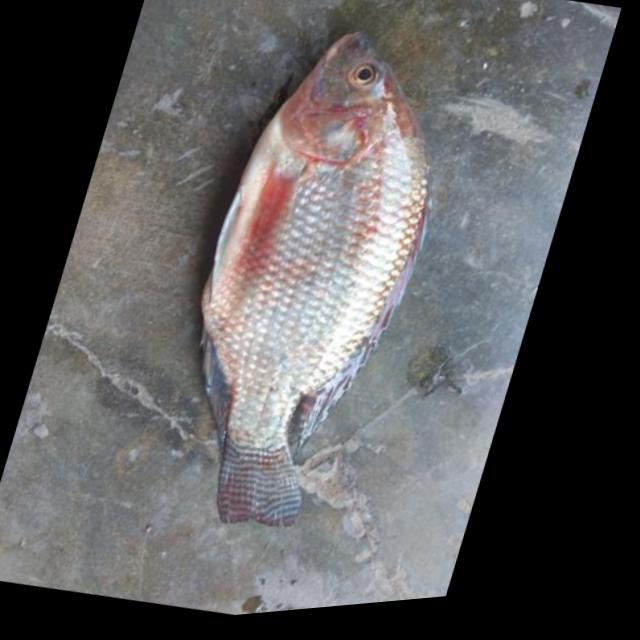Tilapia: (133, 0, 485, 553)
